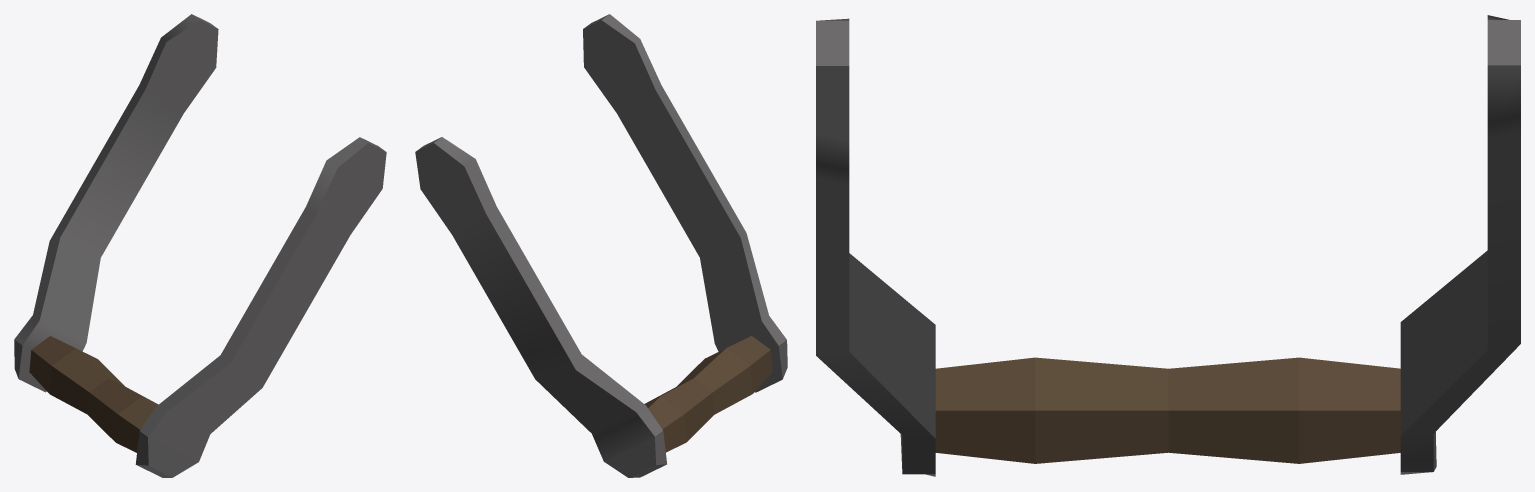
Rendered from kingdom_SM_Item_Billy_01_Handle.gltf.
3 views of the same model, side by side, from view 1: azimuth 30°, elevation 25°; view 2: azimuth 150°, elevation 25°; view 3: azimuth 270°, elevation 25° (orthographic). The views are drawn at different scales.
Parts seen in each view (by area): view 1: SM_Item_Billy_01_Handle; view 2: SM_Item_Billy_01_Handle; view 3: SM_Item_Billy_01_Handle.
Part boxes in pixels (x1,y1,x2,y2): SM_Item_Billy_01_Handle: (14, 14, 386, 477); SM_Item_Billy_01_Handle: (415, 14, 787, 477); SM_Item_Billy_01_Handle: (816, 15, 1520, 476).
Size of the model in its own units: 0.181 by 0.2446 by 0.2487.
1 material, 1 textured.
